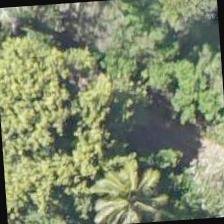Kelapa_Sawit: (86, 157, 181, 223)
